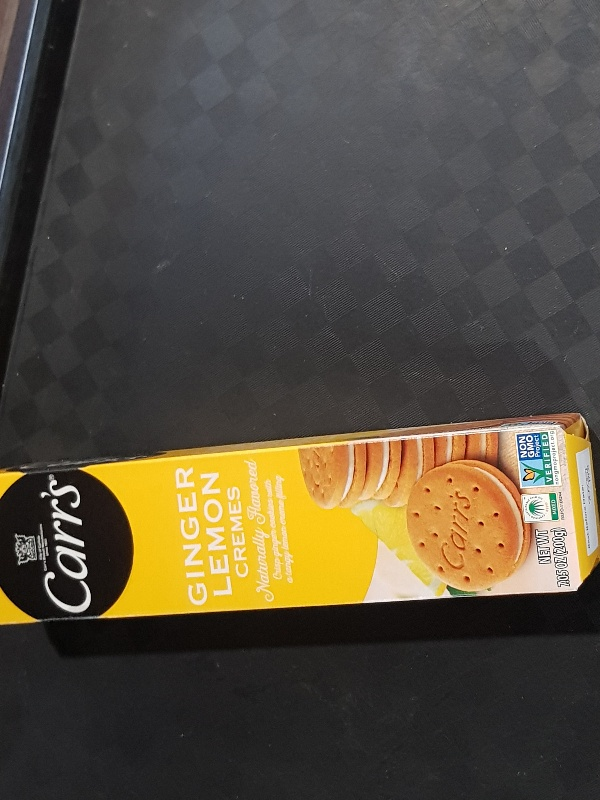Carr's Ginger Lemon Cremes: (1, 414, 600, 627)
